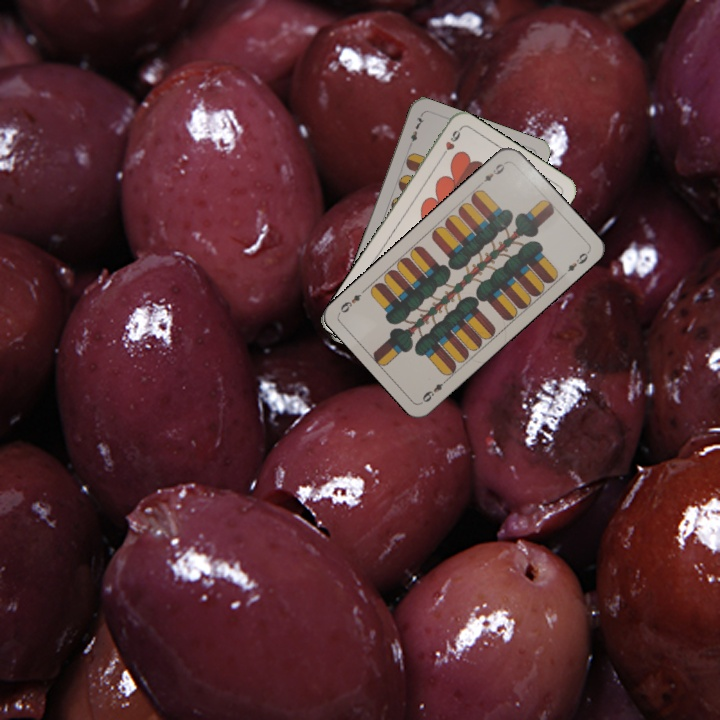E7: (405, 111, 427, 151)
E9: (418, 374, 451, 405), (479, 158, 509, 185)
H9: (437, 125, 464, 161)
